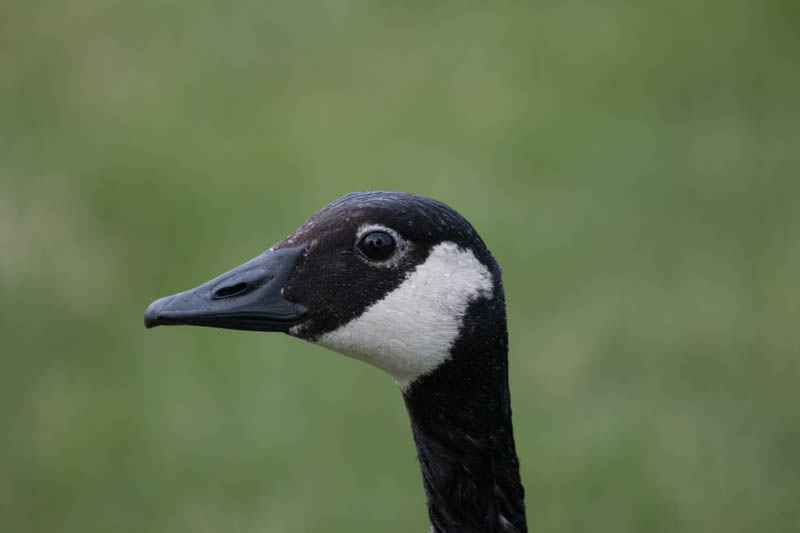goose-head: (143, 190, 509, 394)
